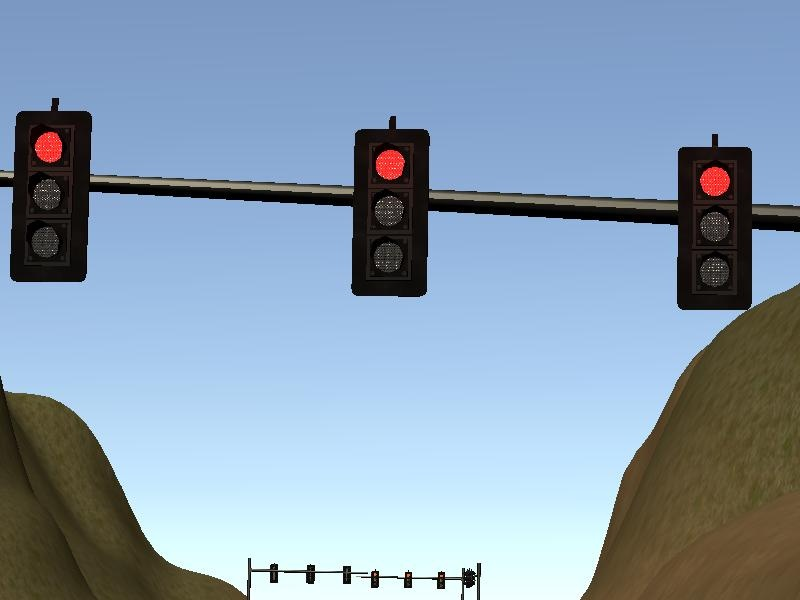RED: (8, 110, 93, 281), (348, 128, 429, 296), (674, 147, 754, 309)
